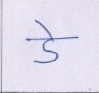e_matra: (34, 19, 56, 37)
